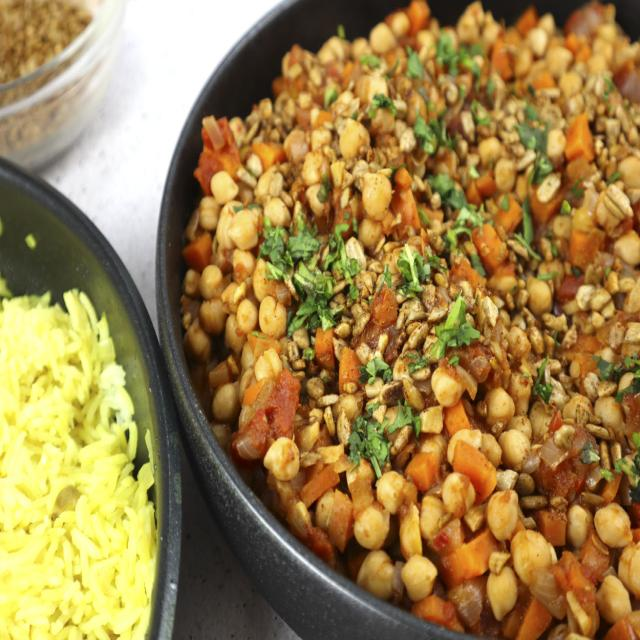garbanzos: (170, 1, 639, 638)
